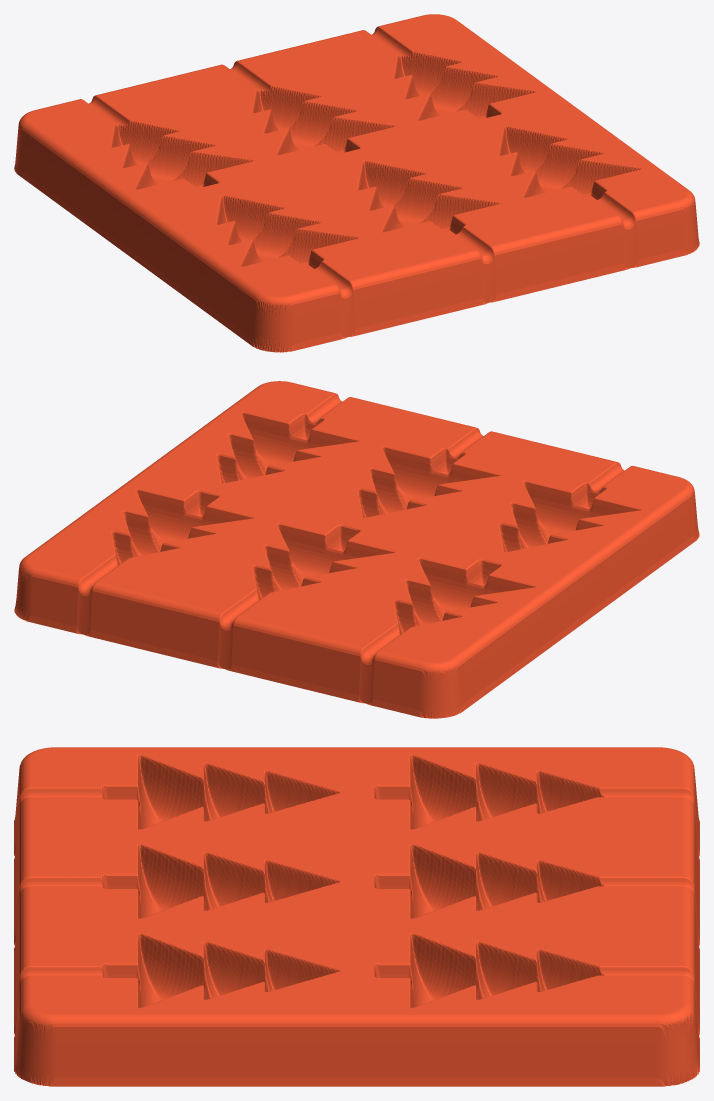
File: mold.glb
3 views of the same model, one above another, from view 1: azimuth 30°, elevation 25°; view 2: azimuth 150°, elevation 25°; view 3: azimuth 270°, elevation 25° (orthographic). The views are drawn at different scales.
Visible parts, largest first — view 1: geometry_0; view 2: geometry_0; view 3: geometry_0.
Part boxes in pixels (x1,y1,x2,y2): geometry_0: [14, 14, 699, 352]; geometry_0: [14, 381, 699, 718]; geometry_0: [14, 747, 699, 1086].
Bounding box in the file's own units: 0.1428 × 0.0155 × 0.1477.
